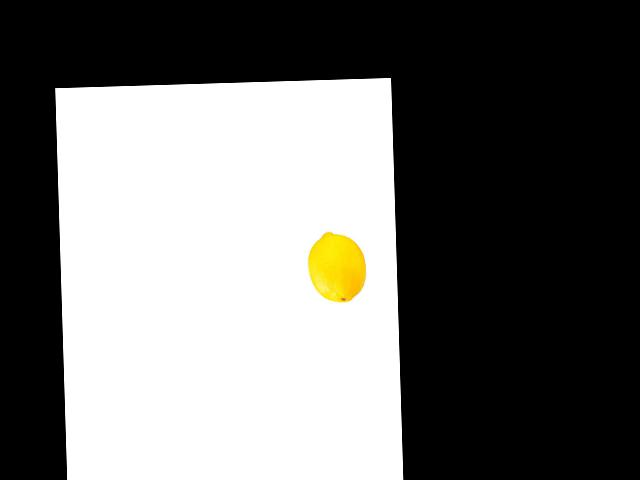lemon: (304, 229, 367, 304)
